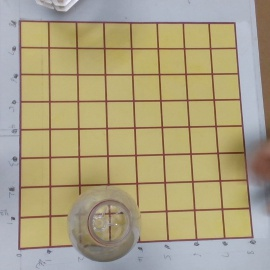bottle: (66, 187, 141, 262)
